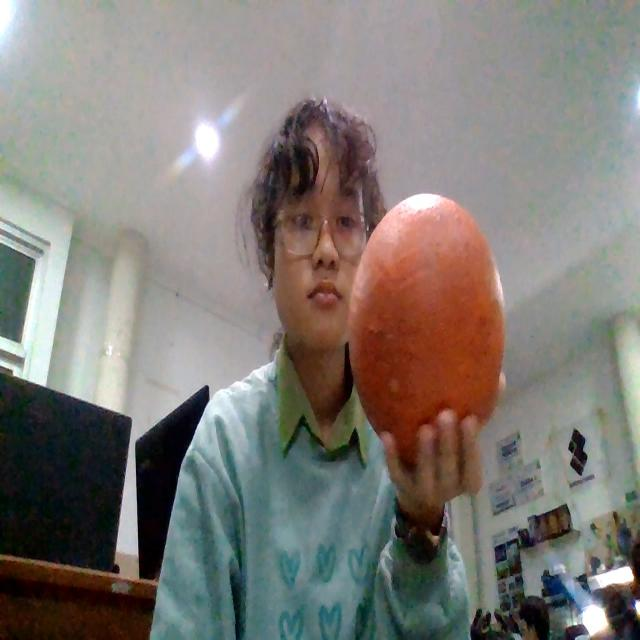ball: (355, 195, 506, 466)
